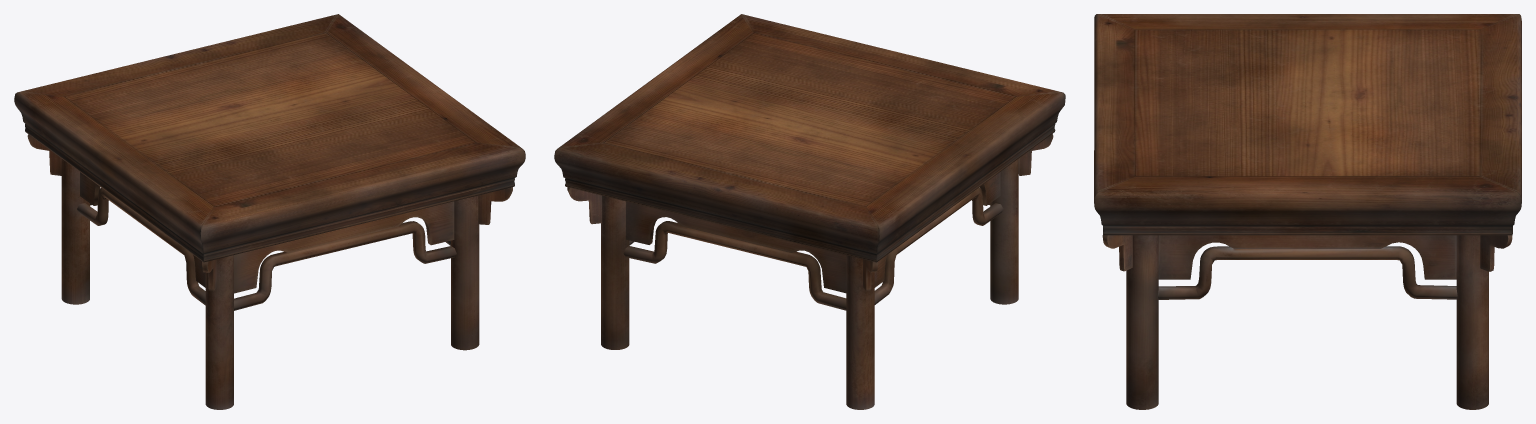
The model's file is chinese_tea_table.glb.
The picture shows the model from 3 angles, left to right: view 1: azimuth 30°, elevation 25°; view 2: azimuth 150°, elevation 25°; view 3: azimuth 270°, elevation 25°; orthographic projection. The views are drawn at different scales.
Visible parts, largest first — view 1: chinese_tea_table; view 2: chinese_tea_table; view 3: chinese_tea_table.
Boxes of the visible parts, <box> form: chinese_tea_table: <box>14,14,525,409</box>; chinese_tea_table: <box>554,14,1065,409</box>; chinese_tea_table: <box>1094,14,1521,409</box>.
Size of the model in its own units: 0.8413 by 0.4986 by 0.8356.
1 material, 1 textured.
